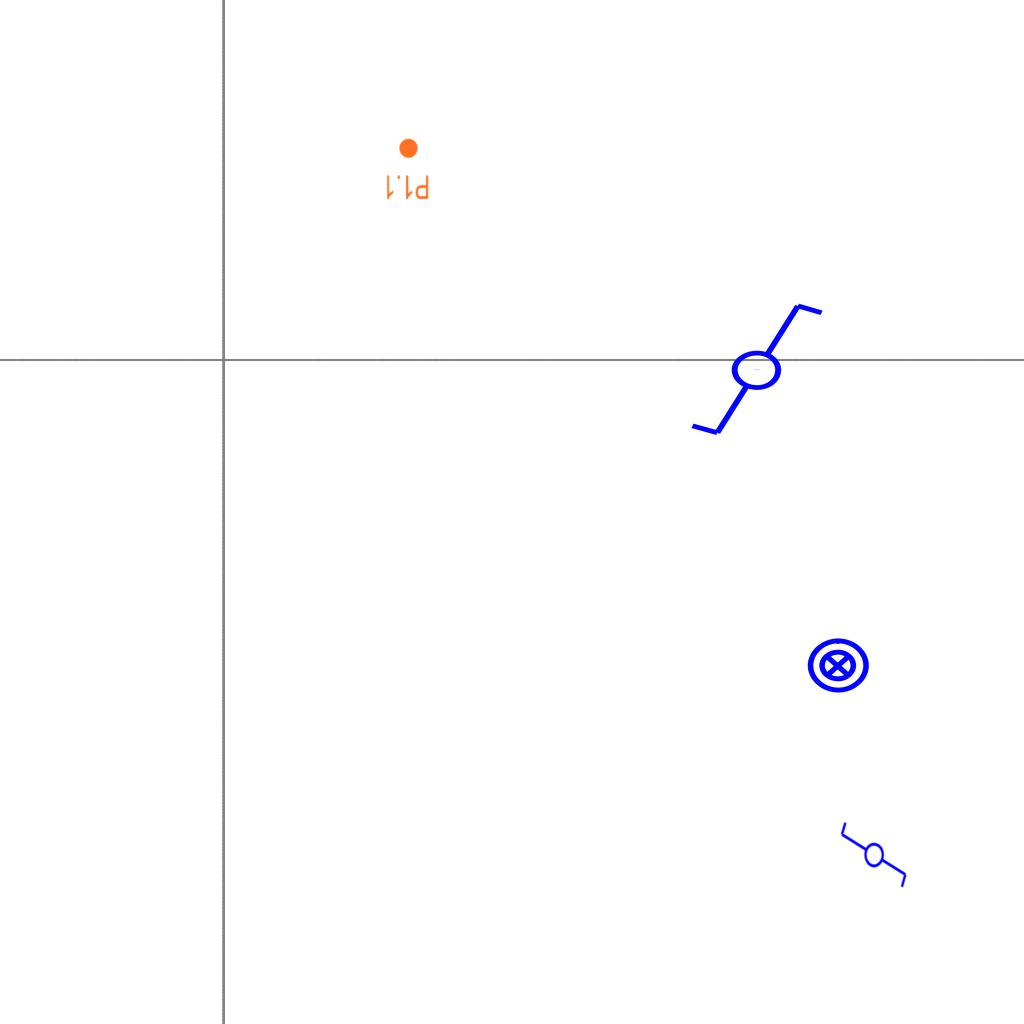Downlight_LED_Einbauleuchten_Flur: (384, 137, 430, 201)
Taster_beleuchtet: (805, 633, 871, 699)
Wechselschalter: (670, 296, 827, 440), (837, 820, 909, 898)
